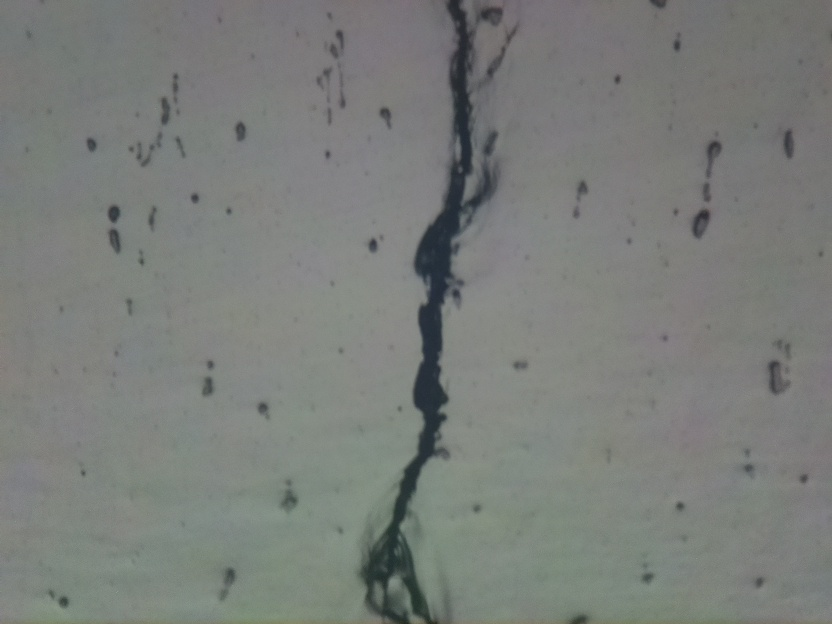crack: (361, 0, 475, 624)
